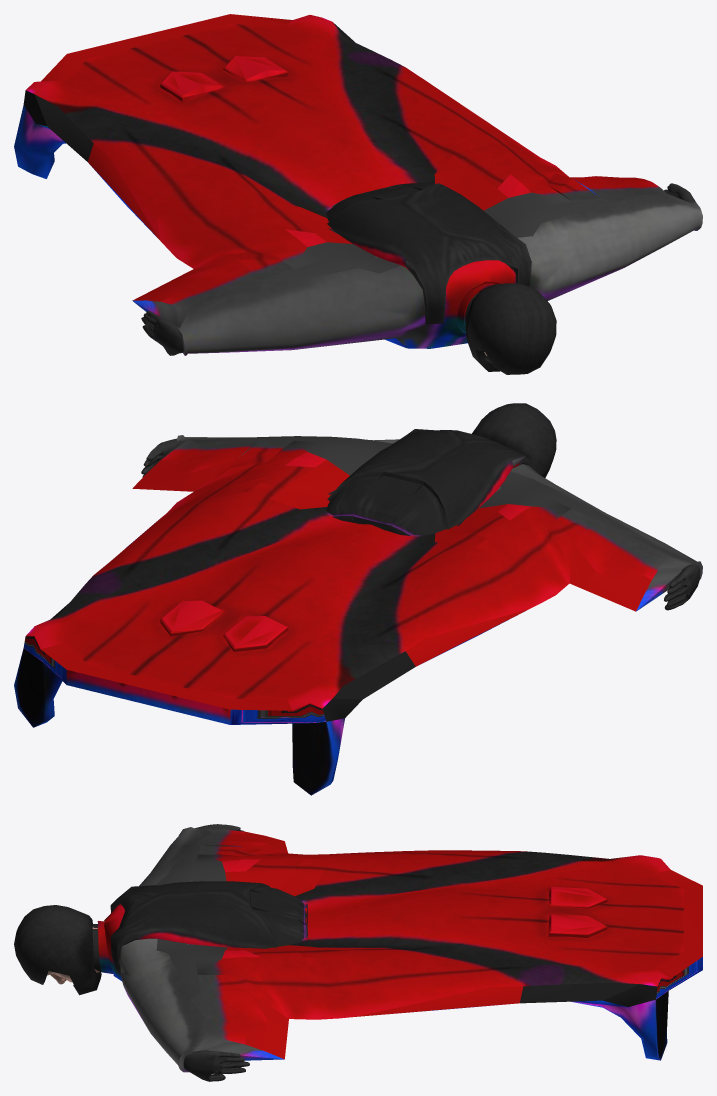
The model's file is WSV8.glb.
3 renders of one model, top to bottom at view 1: azimuth 30°, elevation 25°; view 2: azimuth 150°, elevation 25°; view 3: azimuth 270°, elevation 25°, orthographic. The views are drawn at different scales.
Parts seen in each view (by area): view 1: WS_V3; view 2: WS_V3; view 3: WS_V3.
Boxes of the visible parts, x1=… form: WS_V3: x1=14, y1=14, x2=702, y2=374; WS_V3: x1=14, y1=403, x2=702, y2=795; WS_V3: x1=14, y1=824, x2=702, y2=1081.
Size of the model in its own units: 2.82 by 0.6055 by 3.55.
Materials: 1 (1 with a texture image).
